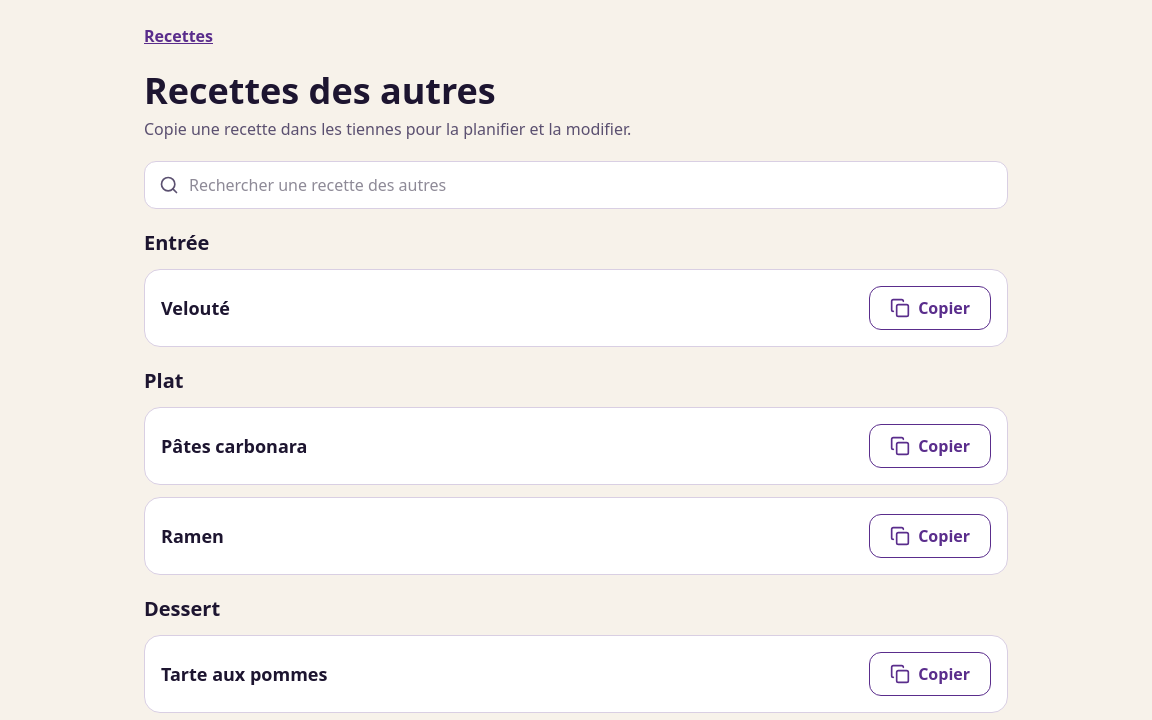
Test: OtherRecipesView : recherche › dit que la recherche a échoué sans rien afficher d’une autre recherche
Type "tarte" into the search field with placeholder "Rechercher une recette des autres". click: (598, 185)
box: [189,165,1007,205]
Wait 300 ms
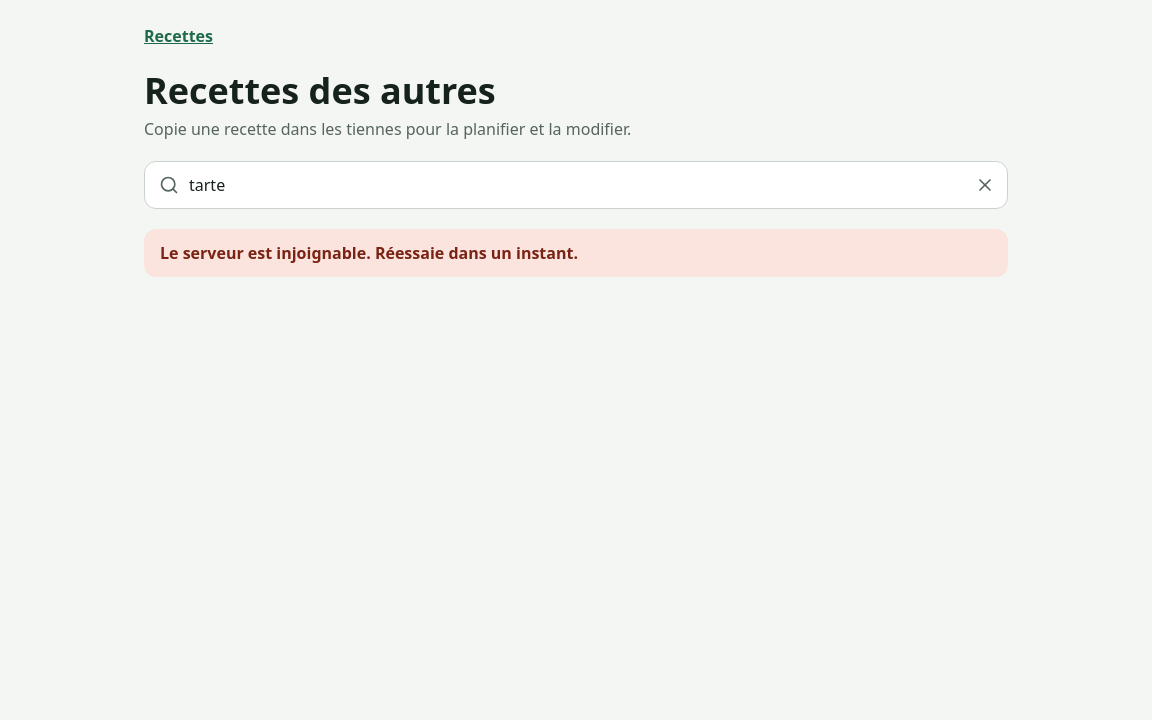
Expected: the message "Le serveur est injoignable. Réessaie dans un instant." is shown, [144,229,1008,277]
Expected: no list items are shown
